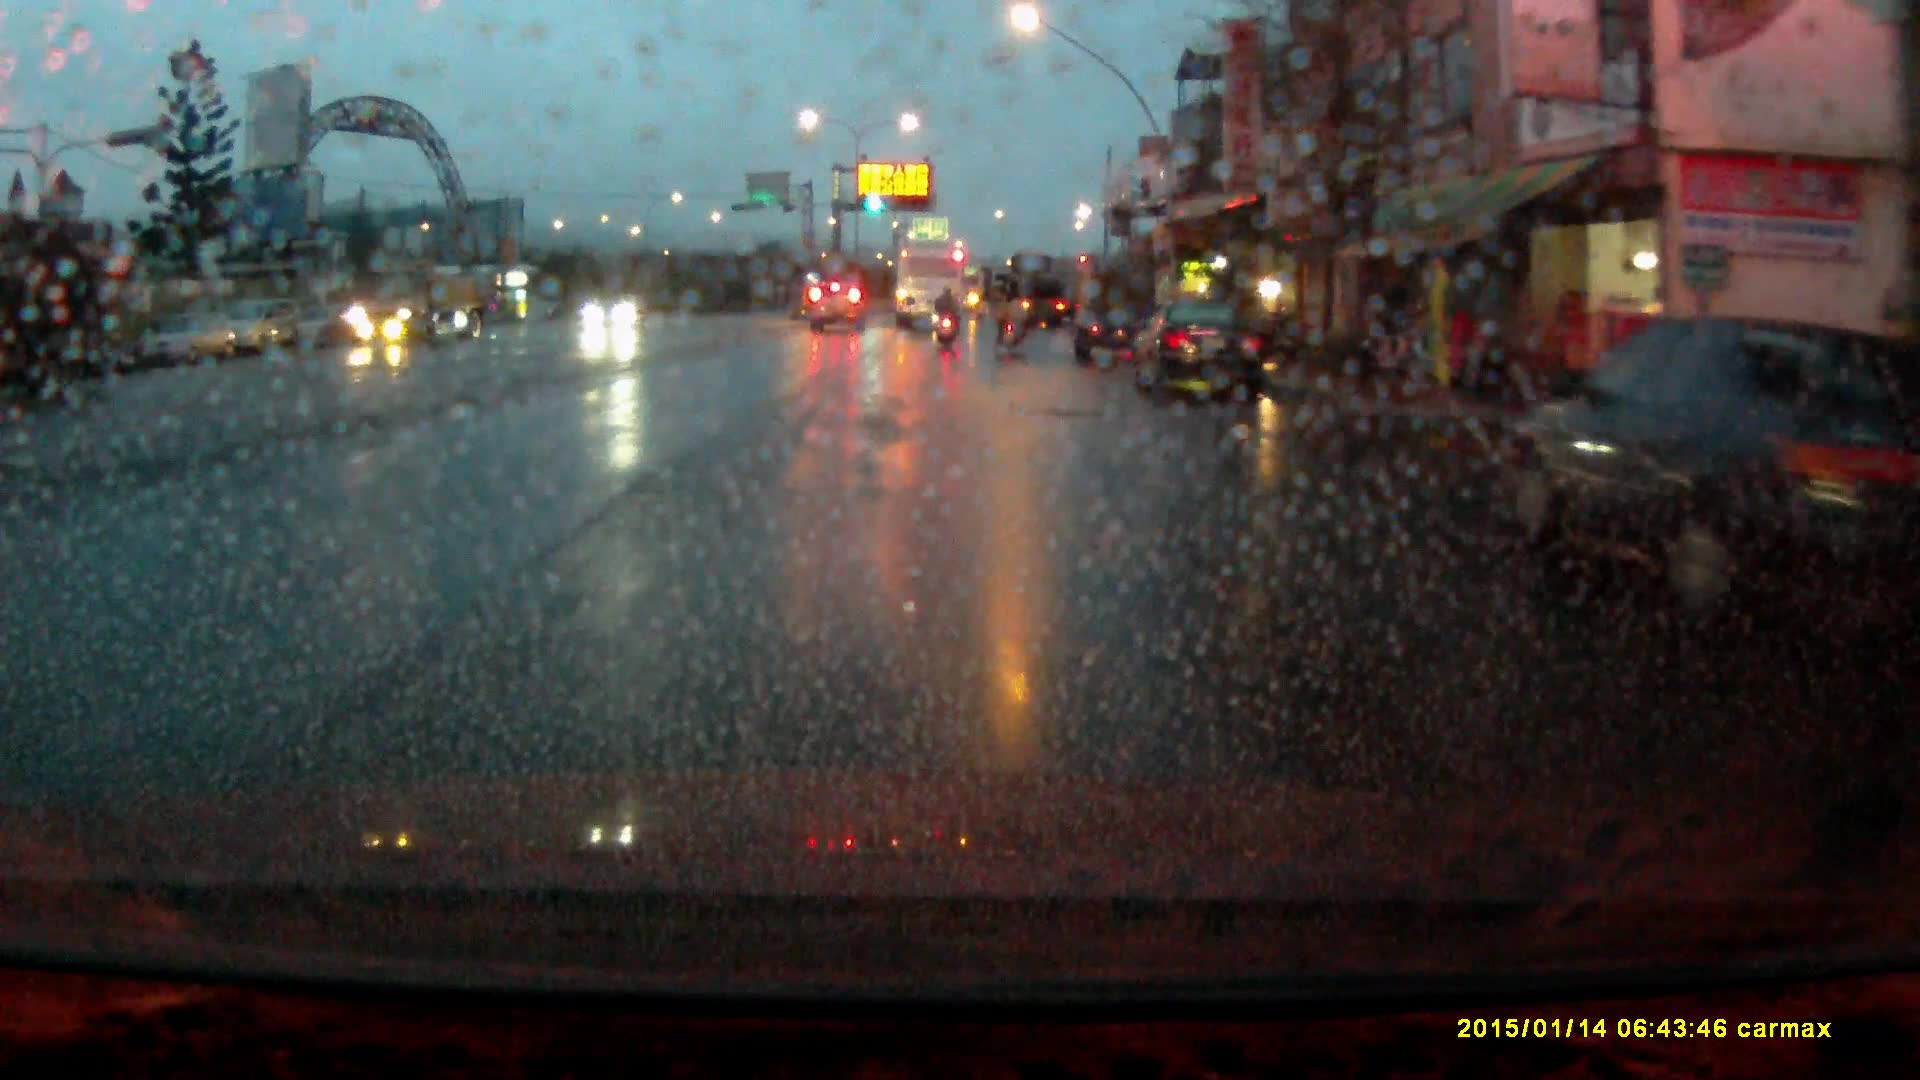rider: (992, 276, 1026, 358), (933, 287, 962, 351)
vehicle: (1485, 316, 1920, 610), (1136, 305, 1274, 404), (341, 264, 492, 347), (1071, 262, 1160, 364), (895, 246, 965, 334), (1004, 254, 1071, 332), (140, 311, 229, 369), (229, 300, 307, 353), (807, 279, 871, 337), (586, 293, 649, 332)
